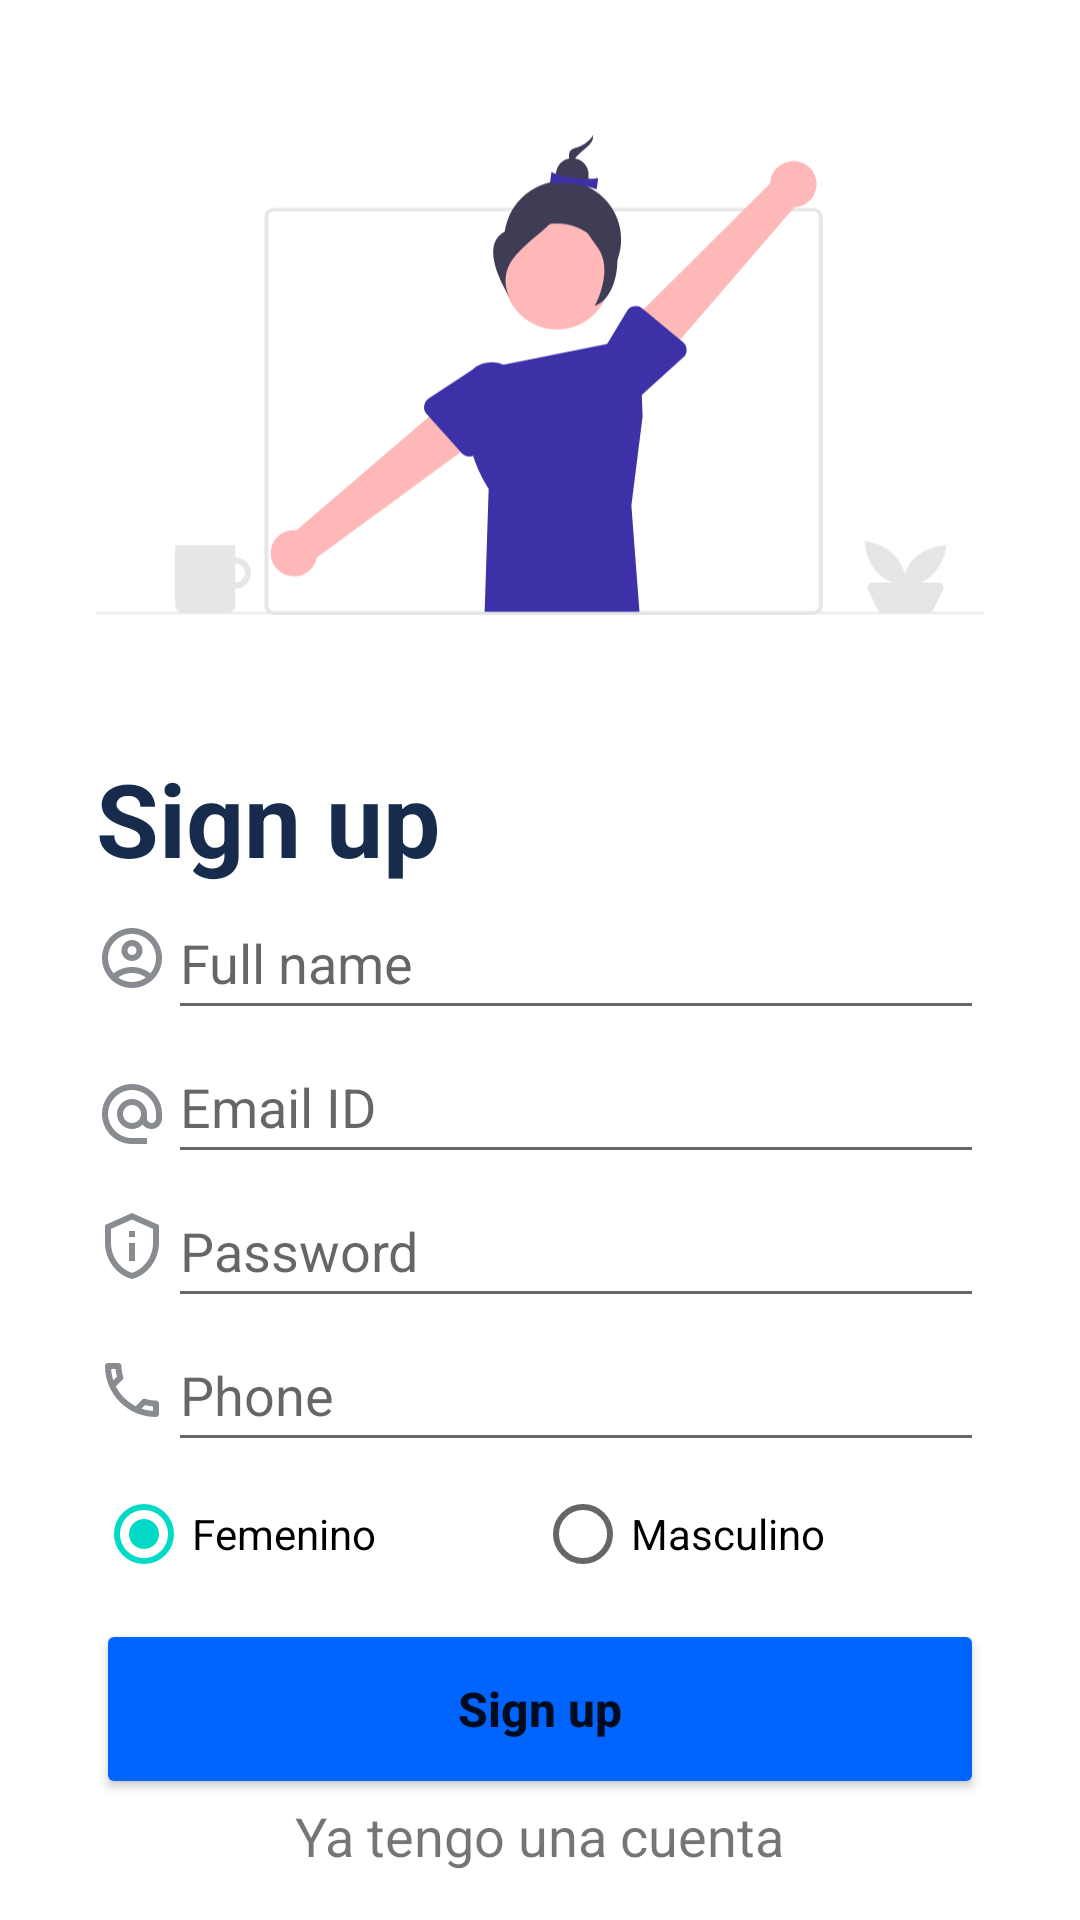

Icons on this 1080x1920 Android screen, each with the point to tap as point (x, y):
Ícono del usuario: point (132, 958)
